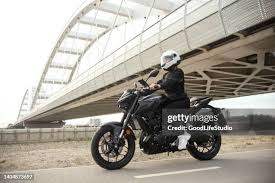motorcycle: (89, 70, 225, 170)
